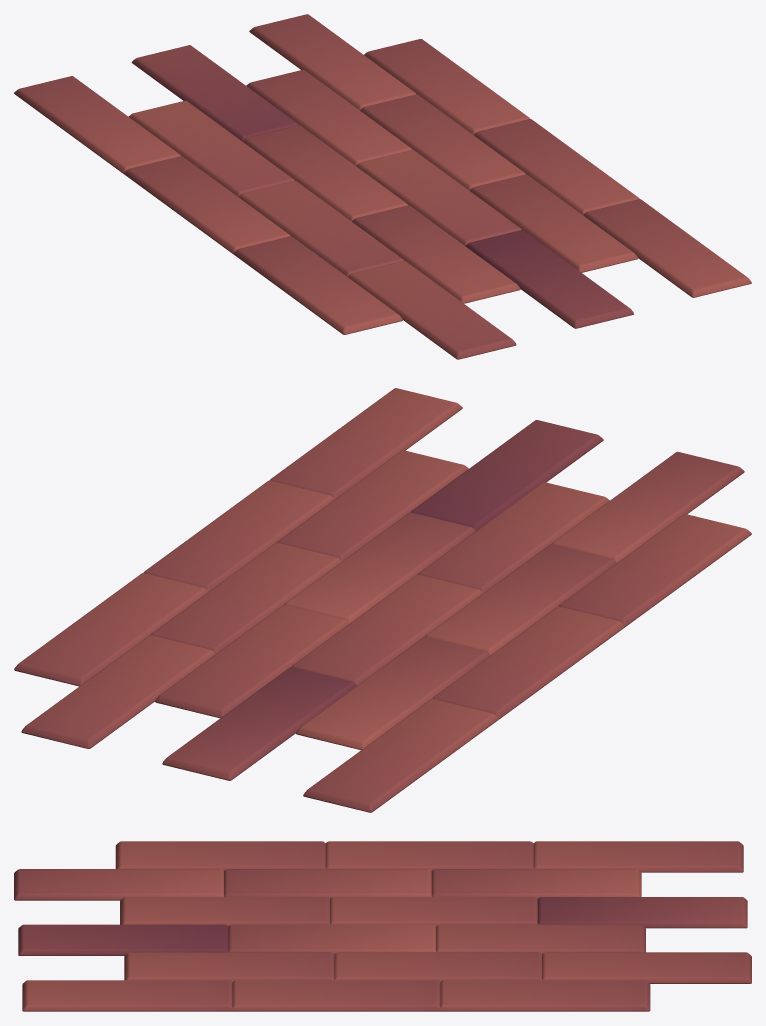
File: Floor Tiles.fbx
The picture shows the model from 3 angles, top to bottom: view 1: azimuth 30°, elevation 25°; view 2: azimuth 150°, elevation 25°; view 3: azimuth 270°, elevation 25°; orthographic projection. The views are drawn at different scales.
Visible parts, largest first — view 1: Floor Tiles; view 2: Floor Tiles; view 3: Floor Tiles.
Part boxes in pixels (box(x1,y1,x2,y2)): Floor Tiles: box(14, 14, 751, 359); Floor Tiles: box(14, 388, 751, 812); Floor Tiles: box(14, 841, 751, 1011).
Size of the model in its own units: 2.4 by 0.039 by 4.49.
